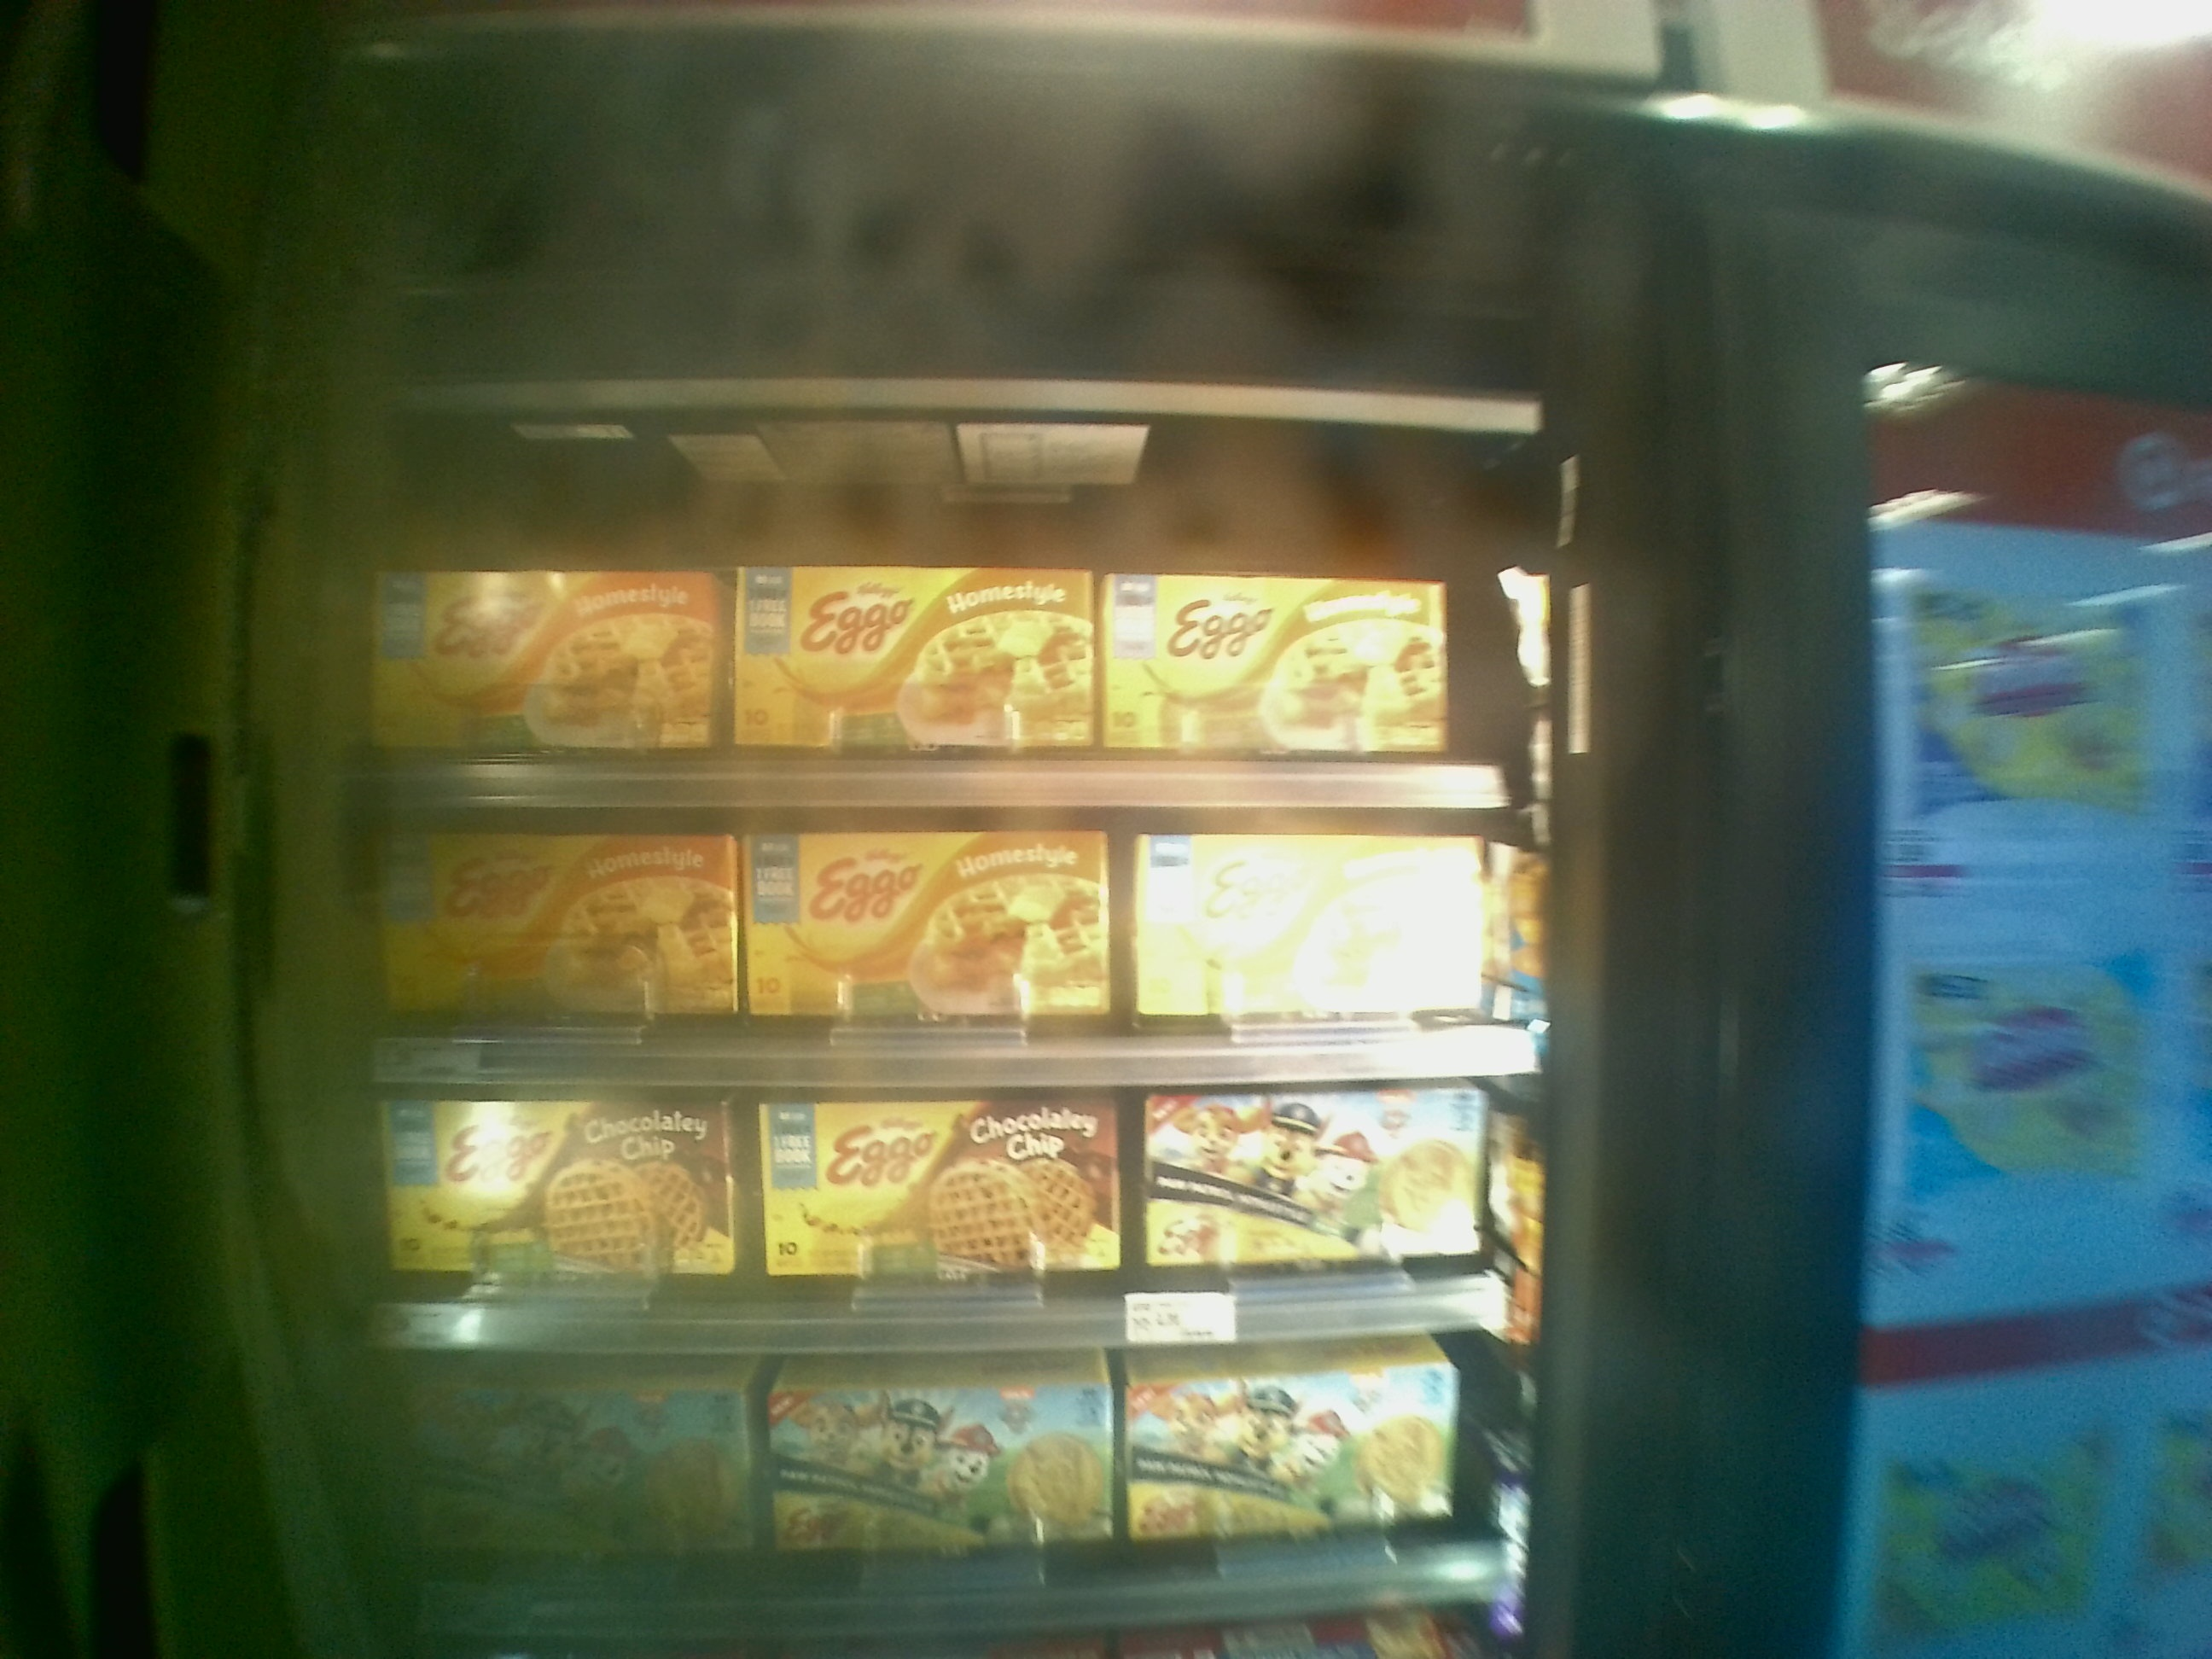shelf: (354, 380, 1531, 812)
